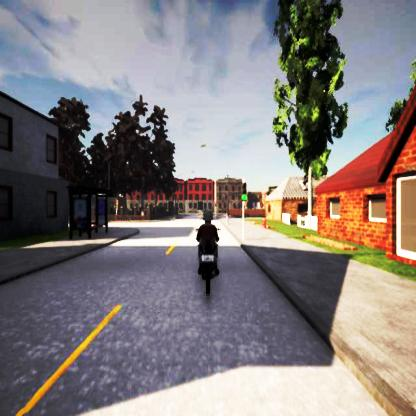motobike: (196, 208, 222, 296)
